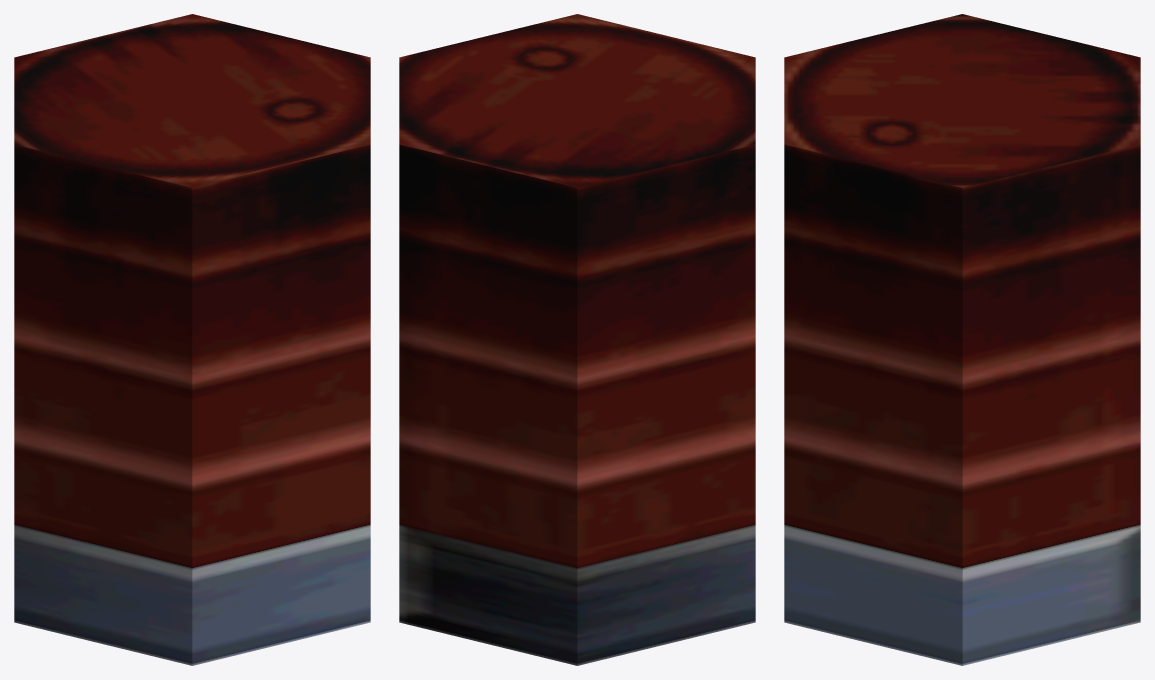
The model's file is redbarrel.fbx.
3 renders of one model, left to right at view 1: azimuth 30°, elevation 25°; view 2: azimuth 150°, elevation 25°; view 3: azimuth 270°, elevation 25°, orthographic.
Parts seen in each view (by area): view 1: redbarrel; view 2: redbarrel; view 3: redbarrel.
Boxes of the visible parts, x1=… form: redbarrel: x1=14, y1=14, x2=370, y2=665; redbarrel: x1=399, y1=14, x2=755, y2=665; redbarrel: x1=784, y1=14, x2=1140, y2=665.
Bounding box in the file's own units: 1.14 × 1.46 × 0.9868.
